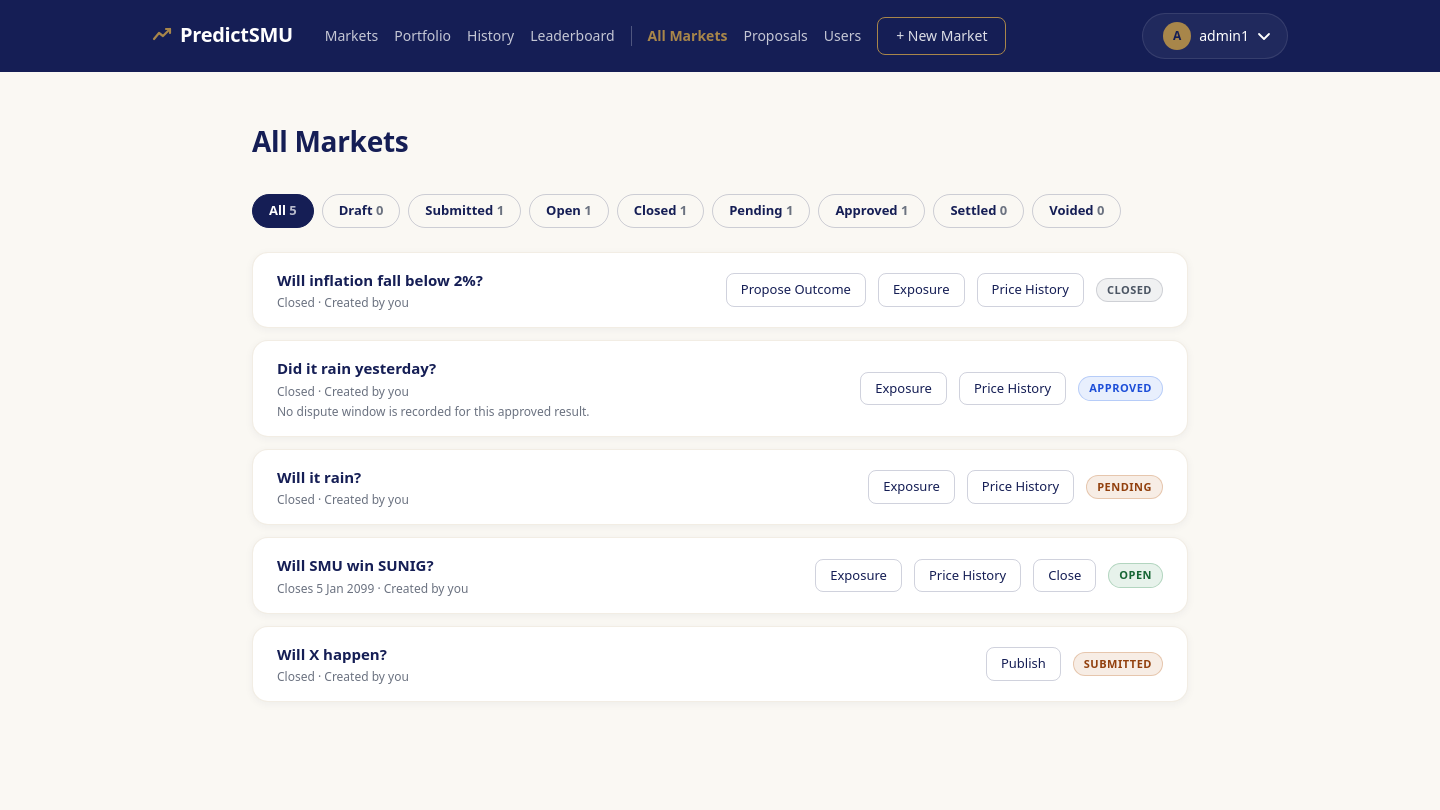
AdminMarketsPage › shows an empty state when a filter matches no markets
Check: the text "Will SMU win SUNIG?" is shown, box [277, 555, 434, 575]
Click the tab "Draft 0" at (361, 211), box [322, 194, 400, 228]
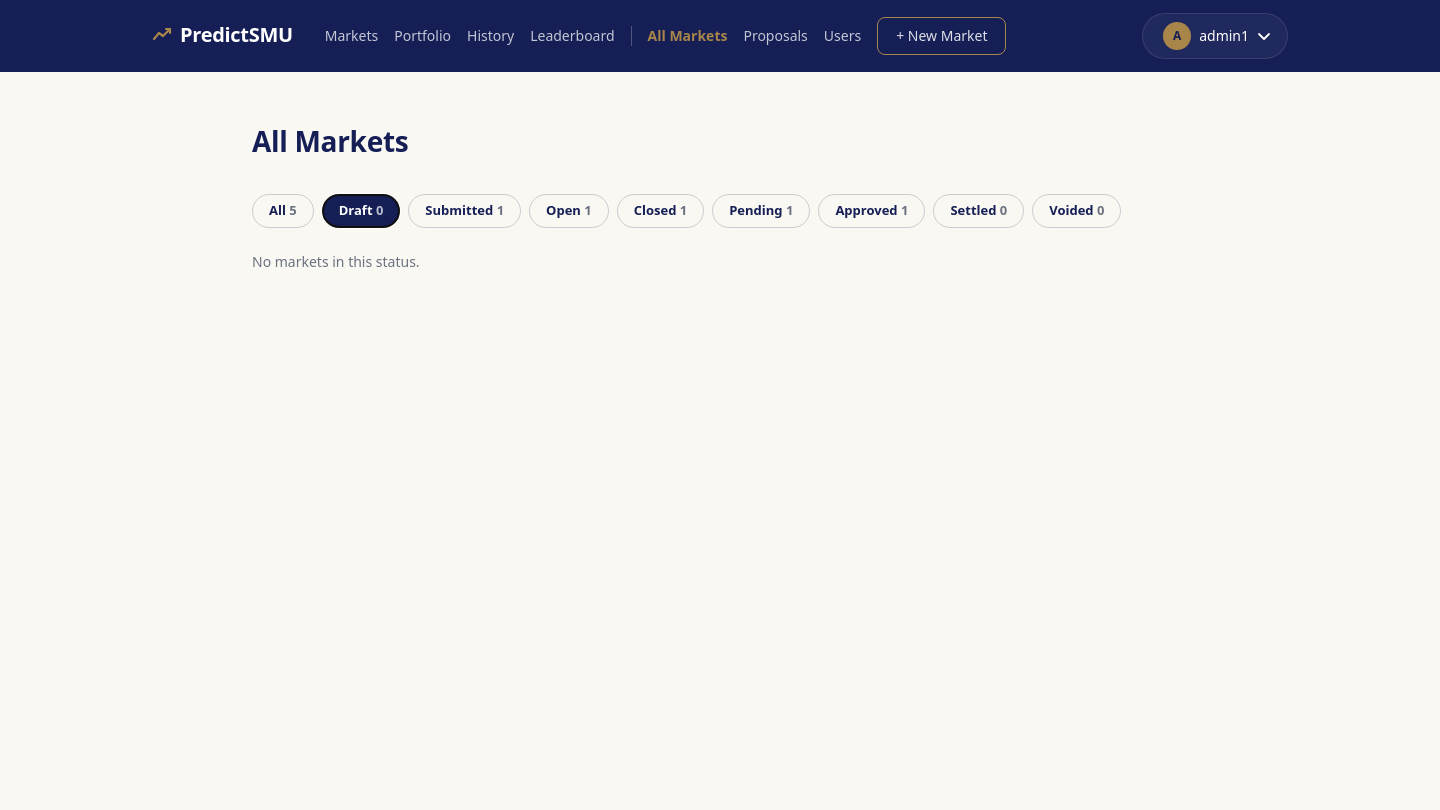
Check: the text "No markets in this status." is shown, box [252, 252, 420, 270]
